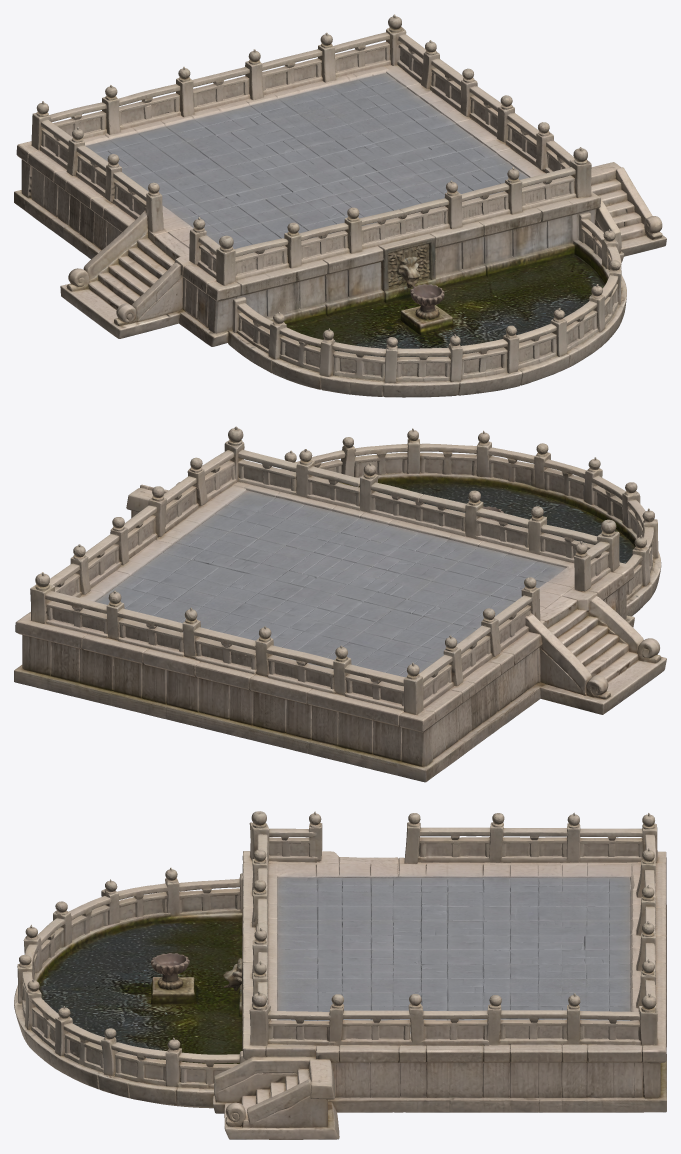
The model's file is altar.glb.
3 renders of one model, top to bottom at view 1: azimuth 30°, elevation 25°; view 2: azimuth 150°, elevation 25°; view 3: azimuth 270°, elevation 25°, orthographic. The views are drawn at different scales.
Visible parts, largest first — view 1: model; view 2: model; view 3: model.
Part boxes in pixels (x1,y1,x2,y2): model: [14, 14, 666, 397]; model: [14, 426, 666, 782]; model: [14, 811, 666, 1139].
Bounding box in the file's own units: 1.8 × 0.3841 × 1.9.
1 material, 1 textured.
